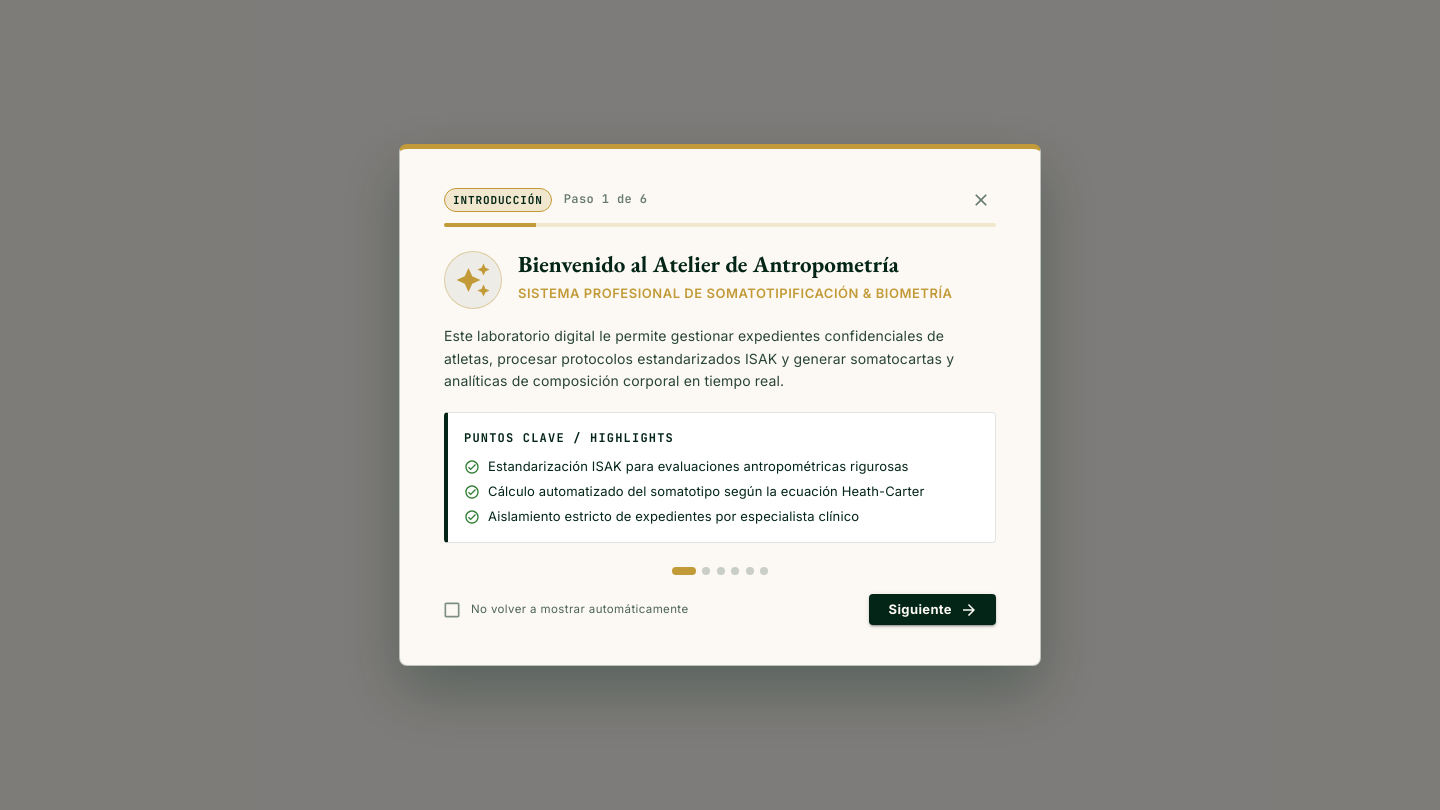
Test case: AtelierTour Component › can navigate backwards with Anterior button
This screenshot has width=1440, height=810.
Click the button "Siguiente": click(932, 610) [869,594,996,625]
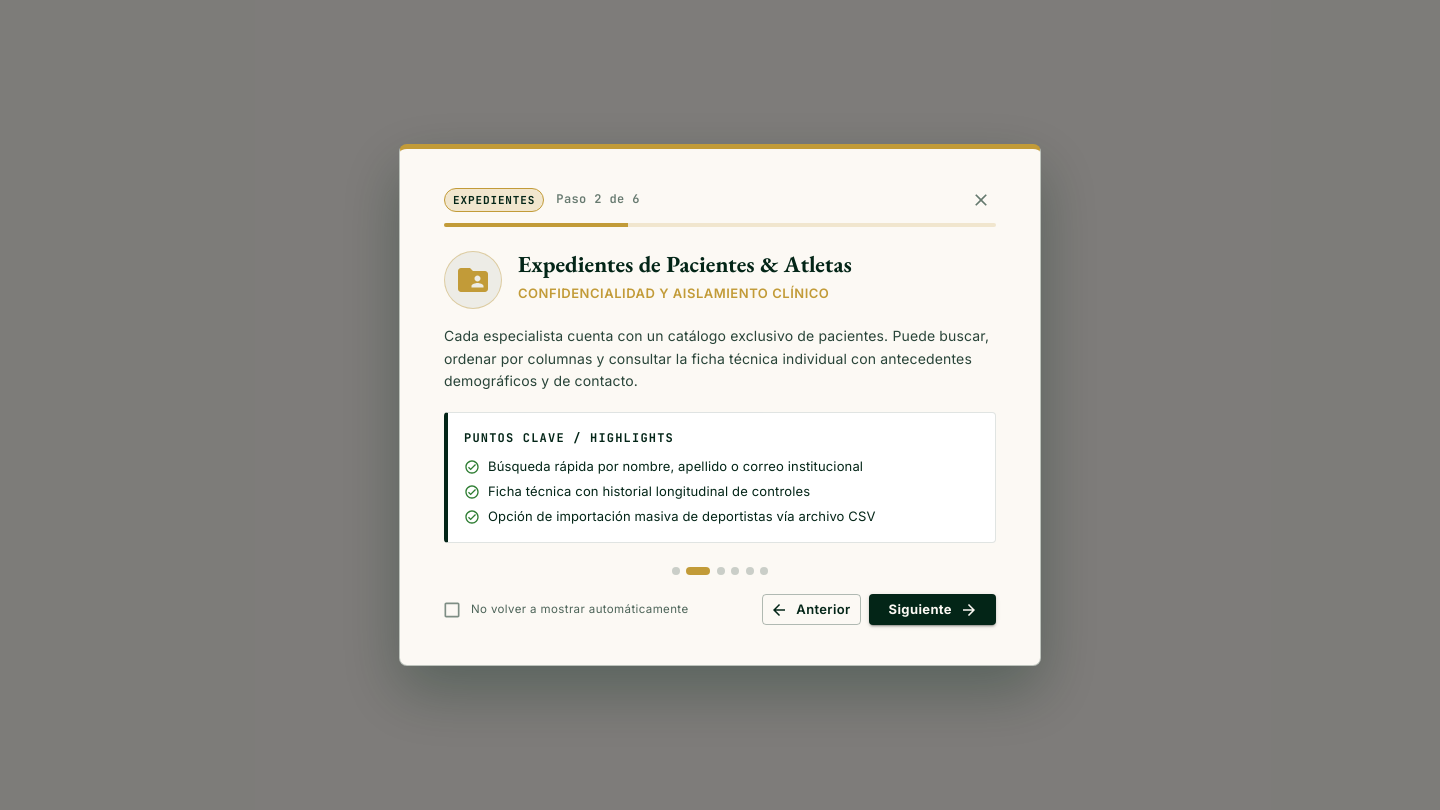
Now the text "Paso 2 de 6" is shown, box [556,190,640,210]
Click the button "Anterior": click(811, 610) [762,594,861,625]
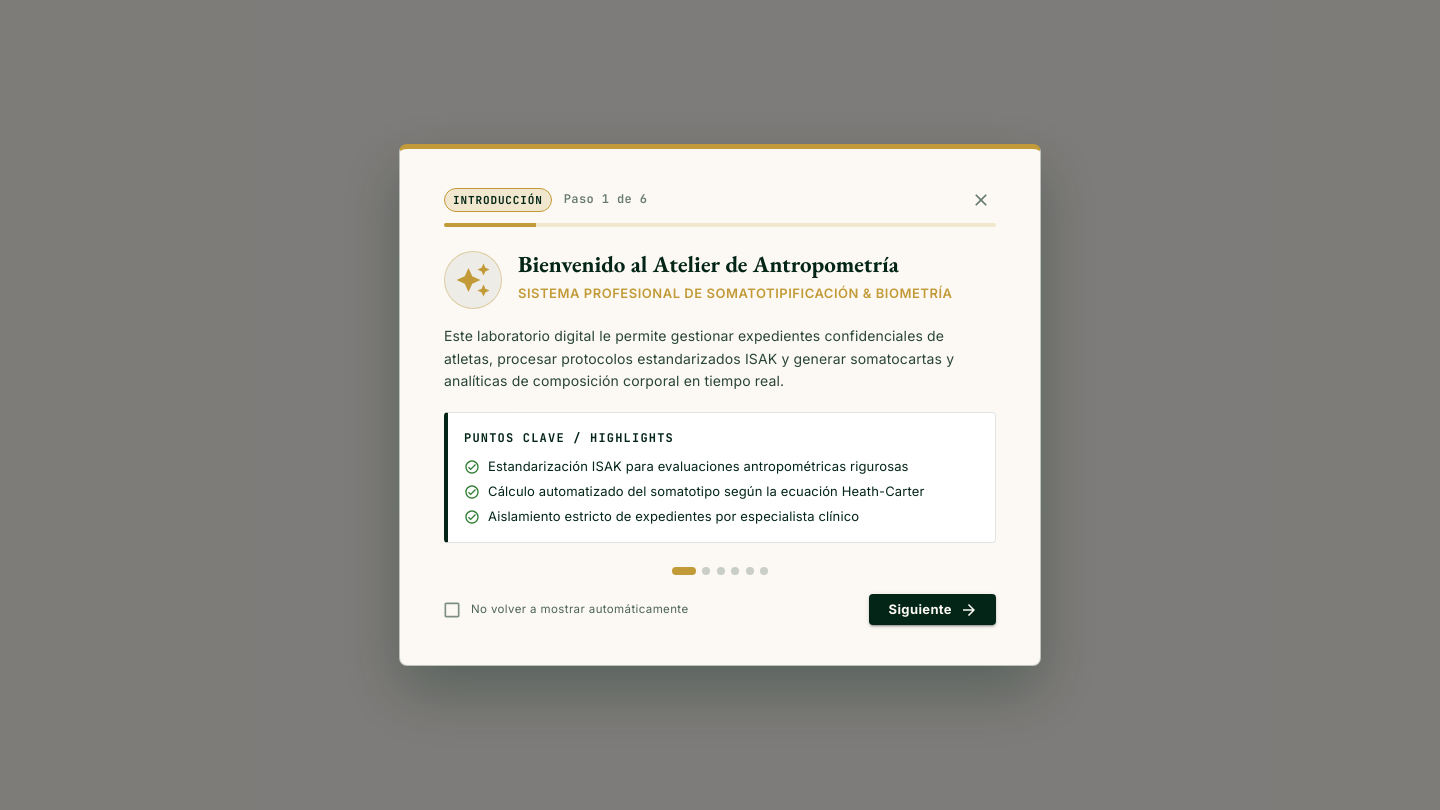
Now the text "Paso 1 de 6" is shown, box [564,190,647,210]
